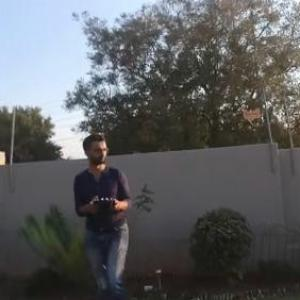follow: (72, 129, 138, 299)
